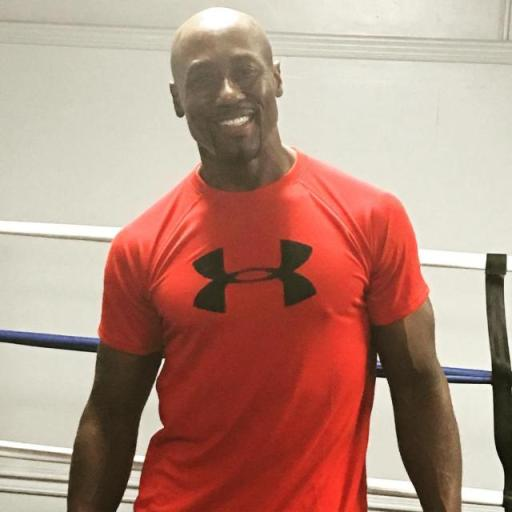Under Armour: (188, 235, 319, 315)
